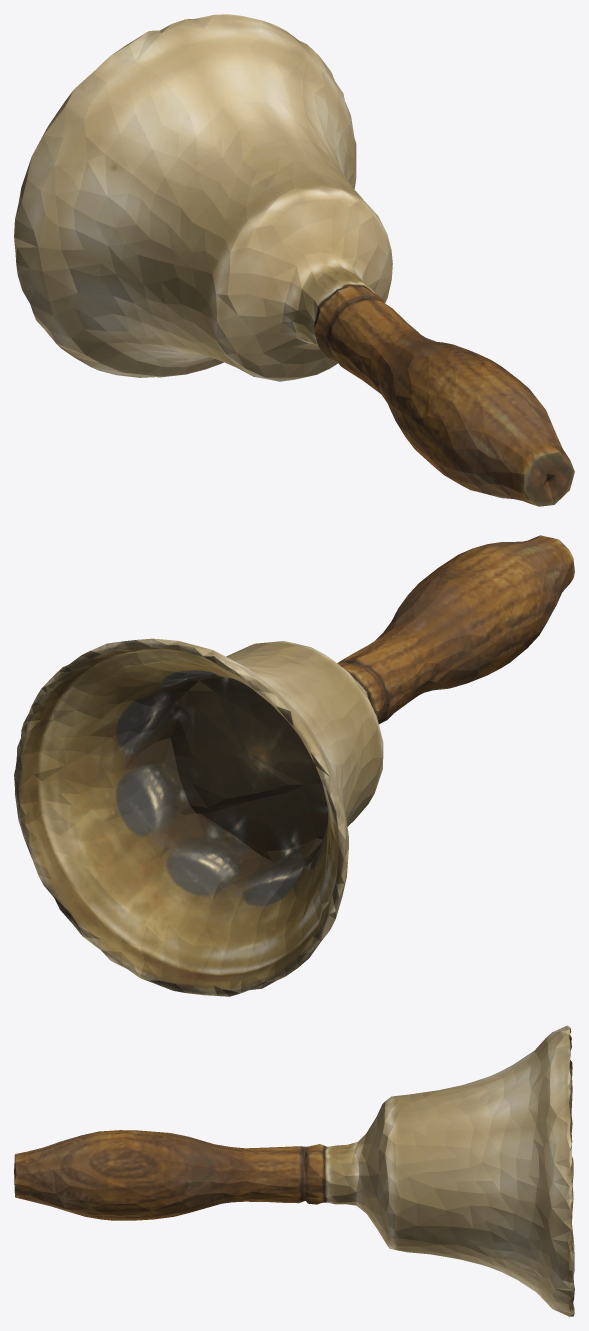
3 renders of one model, top to bottom at view 1: azimuth 30°, elevation 25°; view 2: azimuth 150°, elevation 25°; view 3: azimuth 270°, elevation 25°, orthographic. The views are drawn at different scales.
Bounding box in the file's own units: 0.0828 × 0.0827 × 0.1596.
Materials: 1 (1 with a texture image).
